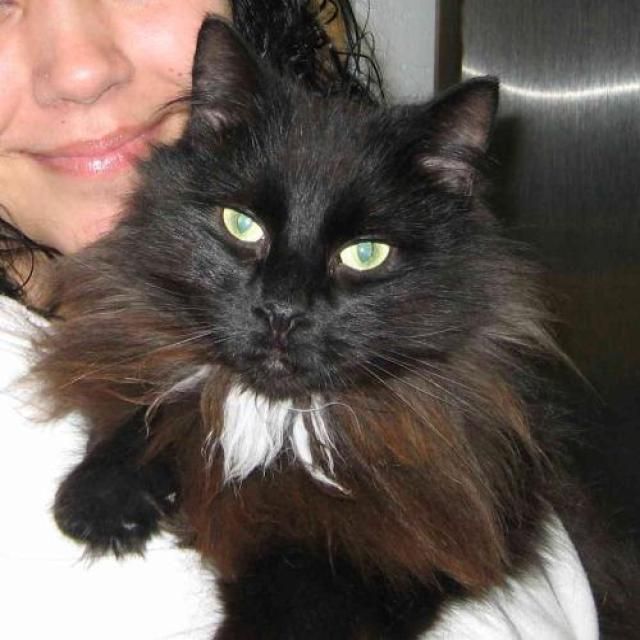Cats: (1, 0, 639, 639)
